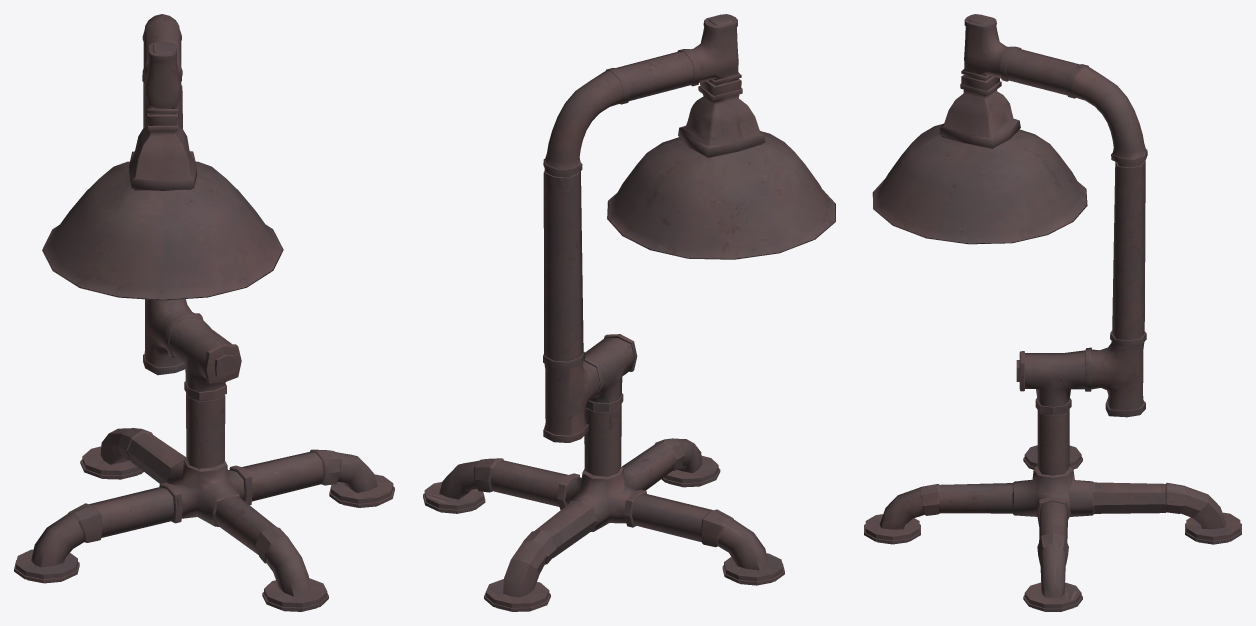
File: industrial_lamp_e51628.glb
The picture shows the model from 3 angles, left to right: view 1: azimuth 30°, elevation 25°; view 2: azimuth 150°, elevation 25°; view 3: azimuth 270°, elevation 25°; orthographic projection. The views are drawn at different scales.
Visible parts, largest first — view 1: polySurface5; view 2: polySurface5; view 3: polySurface5.
Boxes of the visible parts, x1,y1,x2,y2 form: polySurface5: (14, 14, 394, 611); polySurface5: (423, 14, 835, 611); polySurface5: (864, 14, 1241, 611).
Bounding box in the file's own units: 16.18 × 22.32 × 15.95.
Materials: 2 (2 with a texture image).
